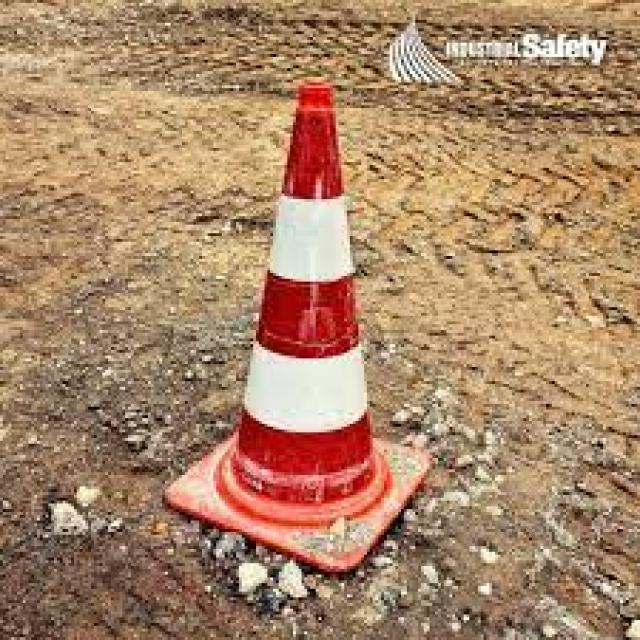Traffic Cone: (135, 35, 494, 633)
